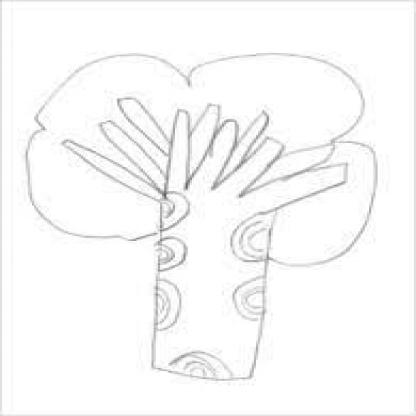branch_cut: (61, 92, 349, 208)
crown_cloud: (28, 52, 380, 269)
knot: (164, 348, 237, 384), (230, 210, 276, 264), (146, 276, 183, 332), (230, 276, 269, 325), (153, 189, 194, 231), (149, 238, 190, 271)
trunk_straight: (148, 243, 273, 369)
